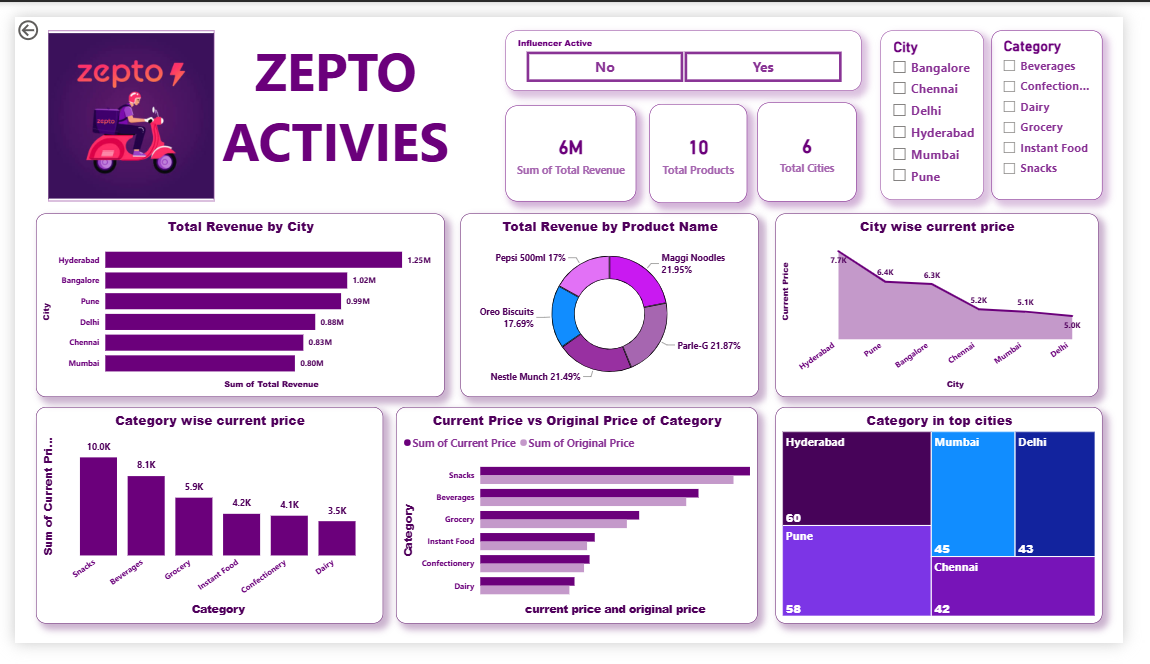

Layout of this report page (visuals, bound fields, positions):
{"tool":"powerbi","page":{"name":"Page 1","canvas":[1680,949],"ordinal":0},"visuals":[{"type":"clusteredBarChart","title":"Total Revenue by City","fields":{"Category":["zepto_sales_dataset.City"],"Y":["Sum(zepto_sales_dataset.Total Revenue)"]},"box":[32.6,297.8,619.6,278.3],"z":0},{"type":"lineStackedColumnComboChart","title":"Category wise current price","fields":{"Category":["zepto_sales_dataset.Category"],"Y":["Sum(zepto_sales_dataset.Current Price)"]},"box":[32.6,591.3,526.1,328.3],"z":1000},{"type":"donutChart","title":"Total Revenue by Product Name","fields":{"Category":["zepto_sales_dataset.Product Name"],"Y":["Sum(zepto_sales_dataset.Total Revenue)"]},"box":[673.9,297.8,452.2,278.3],"z":2000},{"type":"treemap","title":"Category in top cities","fields":{"Group":["zepto_sales_dataset.City"],"Values":["CountNonNull(zepto_sales_dataset.Category)"]},"box":[1152.2,591.3,495.7,328.3],"z":3000},{"type":"actionButton","box":[0,0,100,40],"z":5000},{"type":"clusteredBarChart","title":"Current Price vs Original Price of Category","fields":{"Category":["zepto_sales_dataset.Category"],"Y":["Sum(zepto_sales_dataset.Current Price)","Sum(zepto_sales_dataset.Original Price)"]},"box":[578.3,591.3,547.8,328.3],"z":6000},{"type":"lineChart","title":"City wise current price","fields":{"Category":["zepto_sales_dataset.City"],"Y":["Sum(zepto_sales_dataset.Current Price)"]},"box":[1152.2,297.8,489.1,278.3],"z":7000},{"type":"textbox","box":[302.3,20.5,388.6,256.8],"z":8000},{"type":"image","box":[50,19.6,252.2,258.7],"z":9000},{"type":"card","fields":{"Values":["Sum(zepto_sales_dataset.Total Revenue)"]},"box":[743.2,134.1,197.7,145.5],"z":10000},{"type":"slicer","fields":{"Values":["zepto_sales_dataset.Category"]},"box":[1479.5,20.5,168.2,256.8],"z":11000},{"type":"slicer","fields":{"Values":["zepto_sales_dataset.Influencer Active"]},"box":[743.5,19.6,539.1,91.3],"z":12000},{"type":"slicer","fields":{"Values":["zepto_sales_dataset.City"]},"box":[1311.4,20.5,156.8,256.8],"z":13000},{"type":"card","fields":{"Values":["zepto_sales_dataset.Total Products"]},"box":[961.4,131.8,147.7,150],"z":14000},{"type":"card","fields":{"Values":["zepto_sales_dataset.Total Cities"]},"box":[1125,129.5,150,150],"z":15000}]}

Visuals, with their boxes on the page's 1680x949 design canvas (x1, y1, x2, y2). These are canvas units, not pixel positions in the 1150x664 screenshot, which may show the page scaled, cropped or inside an application window:
"Total Revenue by City" clusteredBarChart: 33:298:652:576
"Category wise current price" lineStackedColumnComboChart: 33:591:559:920
"Total Revenue by Product Name" donutChart: 674:298:1126:576
"Category in top cities" treemap: 1152:591:1648:920
actionButton: 0:0:100:40
"Current Price vs Original Price of Category" clusteredBarChart: 578:591:1126:920
"City wise current price" lineChart: 1152:298:1641:576
textbox: 302:20:691:277
image: 50:20:302:278
card - Sum(zepto_sales_dataset.Total Revenue): 743:134:941:280
slicer - zepto_sales_dataset.Category: 1480:20:1648:277
slicer - zepto_sales_dataset.Influencer Active: 744:20:1283:111
slicer - zepto_sales_dataset.City: 1311:20:1468:277
card - zepto_sales_dataset.Total Products: 961:132:1109:282
card - zepto_sales_dataset.Total Cities: 1125:130:1275:280
